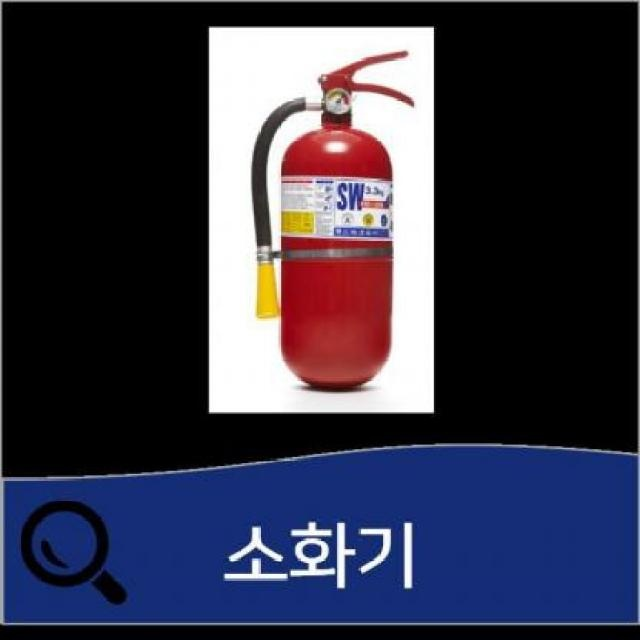fire extinguisher: (251, 50, 415, 390)
